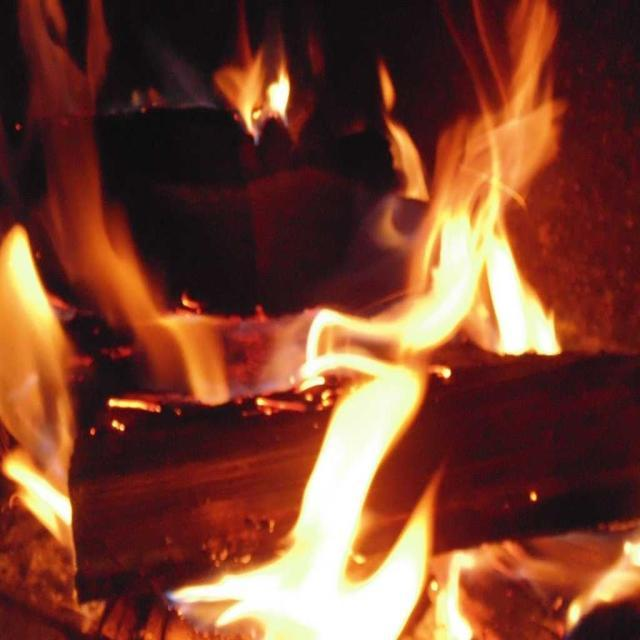Fire: (441, 93, 554, 342), (330, 390, 391, 640), (5, 306, 64, 444)
